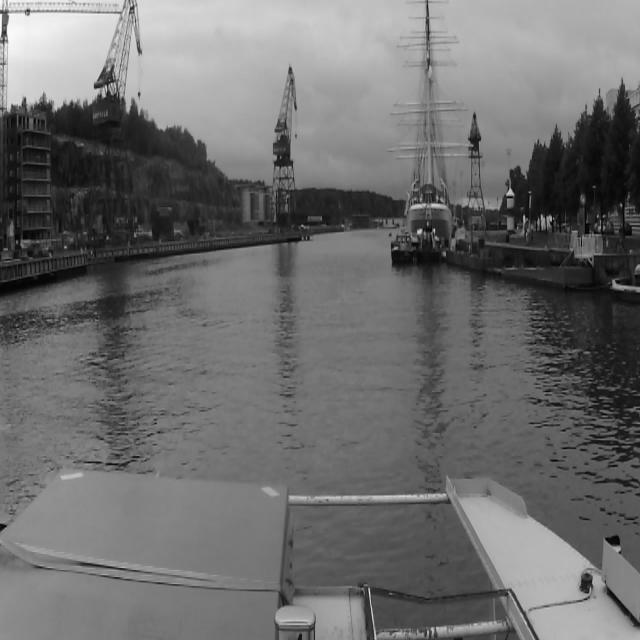ship: (387, 7, 470, 220), (416, 228, 440, 263), (393, 230, 413, 268)
